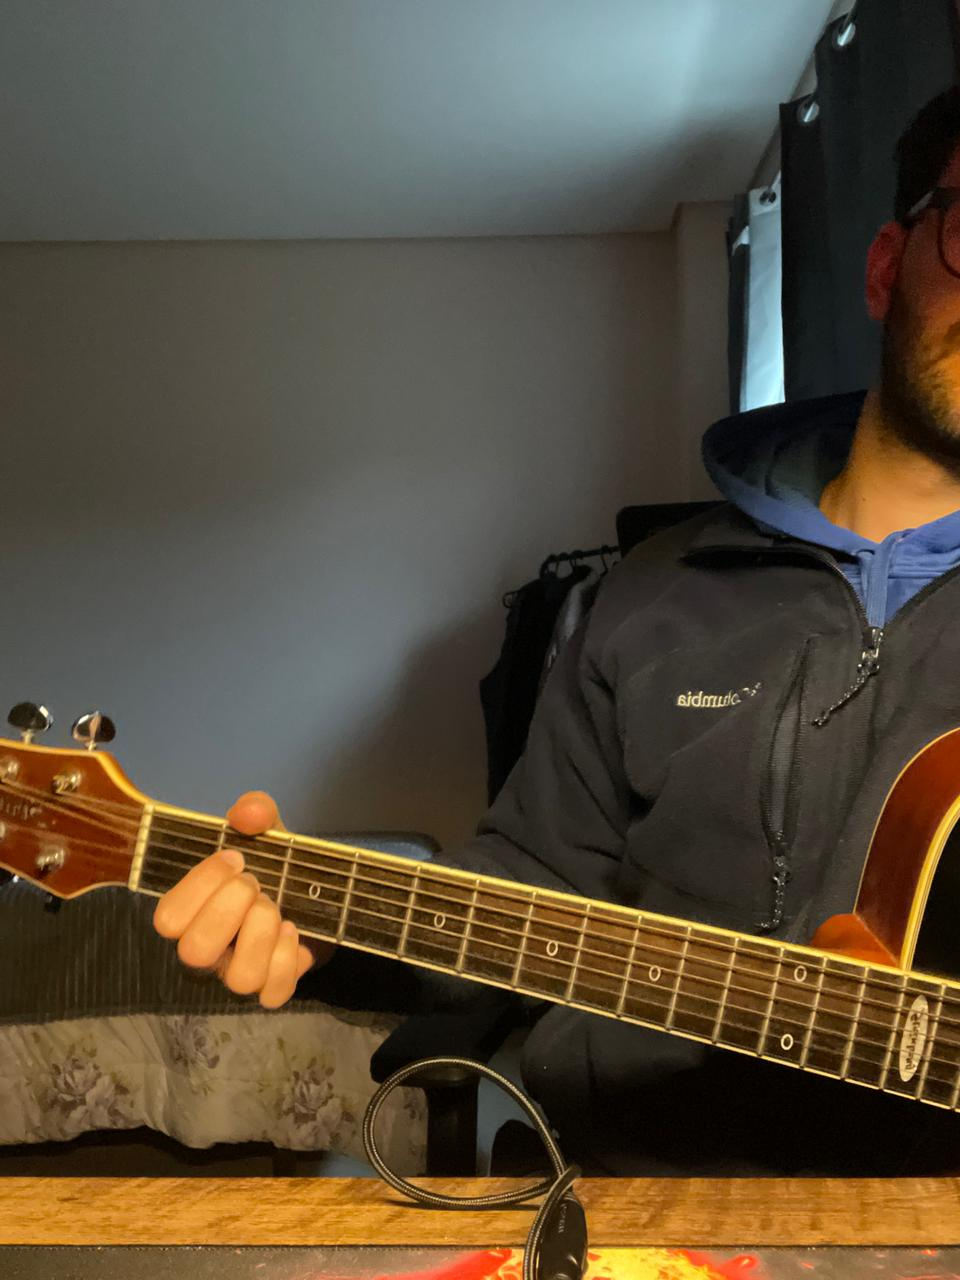la: (199, 819, 293, 938)
violao: (4, 690, 960, 1152)
